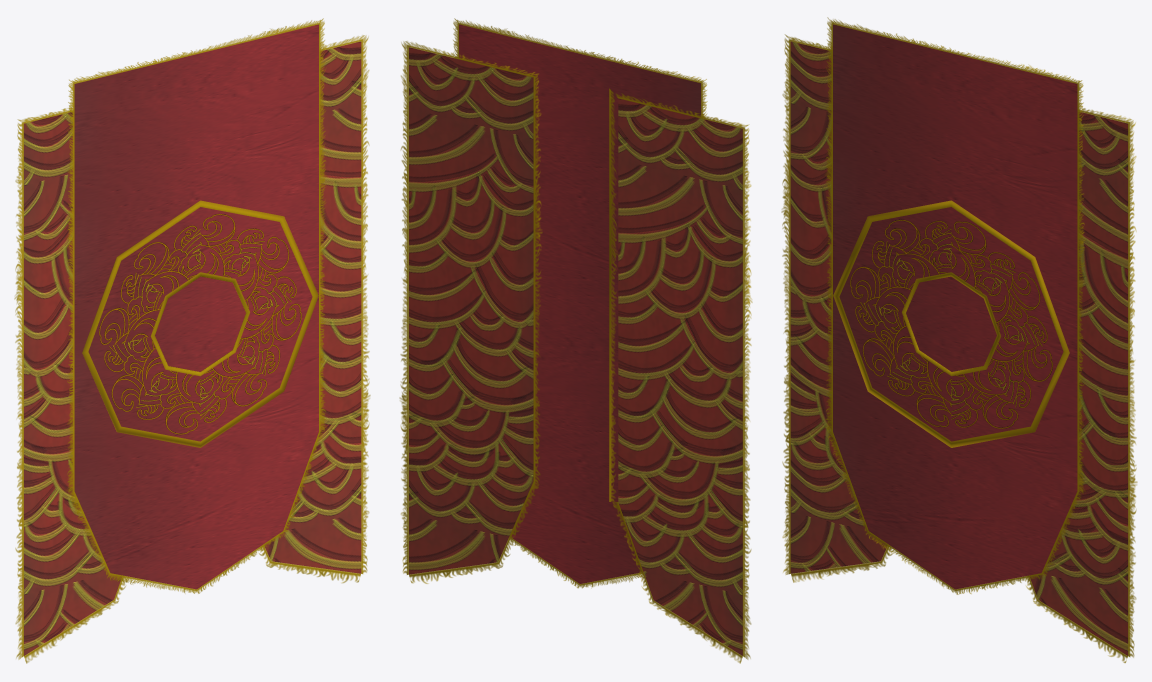
File: polygonalmind-lunar-year-002.glb
The picture shows the model from 3 angles, left to right: view 1: azimuth 30°, elevation 25°; view 2: azimuth 150°, elevation 25°; view 3: azimuth 330°, elevation 25°; orthographic projection.
Parts seen in each view (by area): view 1: Banner; view 2: Banner; view 3: Banner.
Boxes of the visible parts, left/top/right/bottom form: Banner: left=14, top=18, right=370, bottom=663; Banner: left=399, top=18, right=752, bottom=663; Banner: left=781, top=17, right=1137, bottom=662.
Size of the model in its own units: 2.09 by 3.27 by 0.0842.
Materials: 3 (3 with a texture image).
